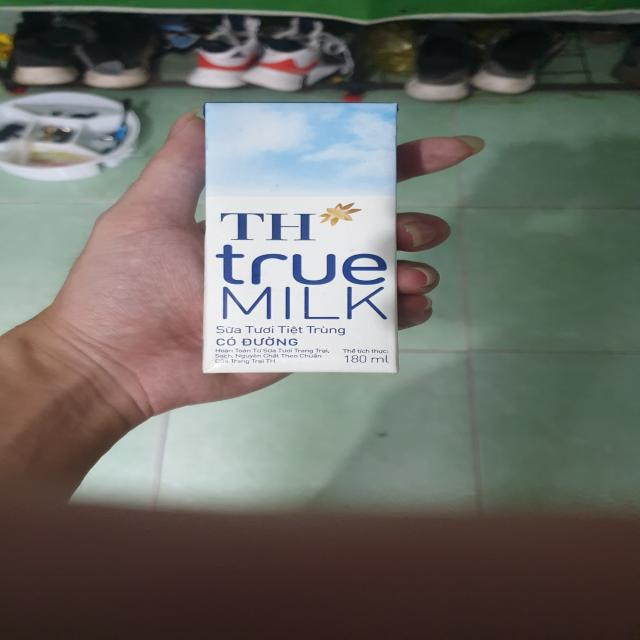TH: (201, 105, 400, 376)
